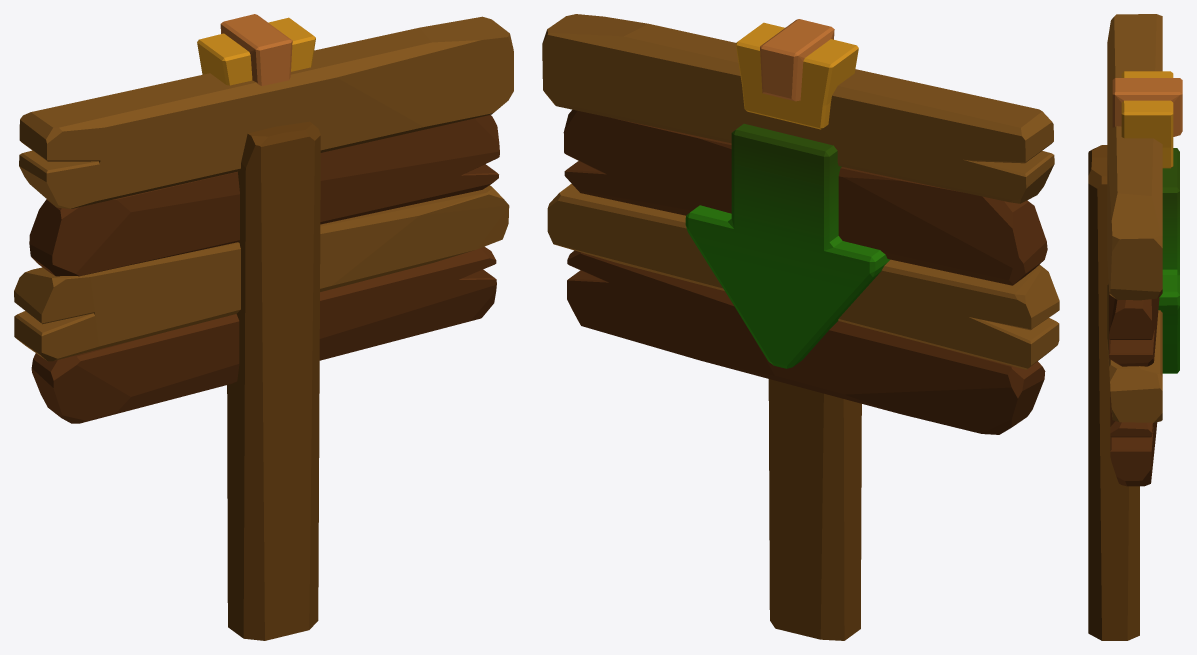
Rendered from SignPost05.fbx.
The picture shows the model from 3 angles, left to right: view 1: azimuth 30°, elevation 25°; view 2: azimuth 150°, elevation 25°; view 3: azimuth 270°, elevation 25°; orthographic projection. The views are drawn at different scales.
Parts seen in each view (by area): view 1: LOD0; view 2: LOD0; view 3: LOD0.
Part boxes in pixels (box(x1,y1,x2,y2)): LOD0: box(14, 14, 513, 640); LOD0: box(542, 14, 1059, 640); LOD0: box(1088, 14, 1182, 640).
Size of what is drawn, in the model's own units: 149 by 27.69 by 175.
